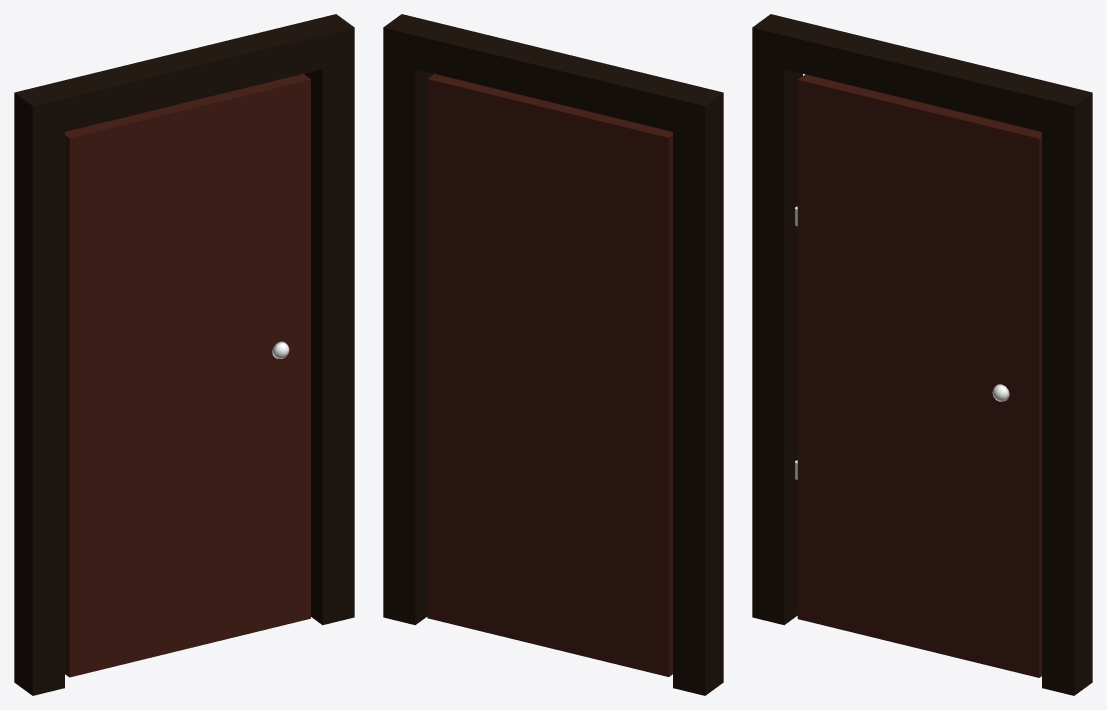
File: Openable Single Door.FBX
3 views of the same model, side by side, from view 1: azimuth 30°, elevation 25°; view 2: azimuth 150°, elevation 25°; view 3: azimuth 330°, elevation 25° (orthographic).
Visible parts, largest first — view 1: Single Door, Single Door Frame; view 2: Single Door, Single Door Frame; view 3: Single Door, Single Door Frame.
Boxes of the visible parts, x1,y1,x2,y2 form: Single Door: (65, 74, 310, 677); Single Door Frame: (14, 14, 354, 695); Single Door: (427, 74, 672, 676); Single Door Frame: (383, 14, 723, 695); Single Door: (797, 74, 1041, 677); Single Door Frame: (752, 14, 1092, 695).
Size of the model in its own units: 2 by 3.5 by 0.2386.
